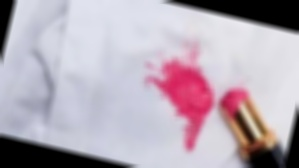lipstick: (130, 38, 232, 154)
